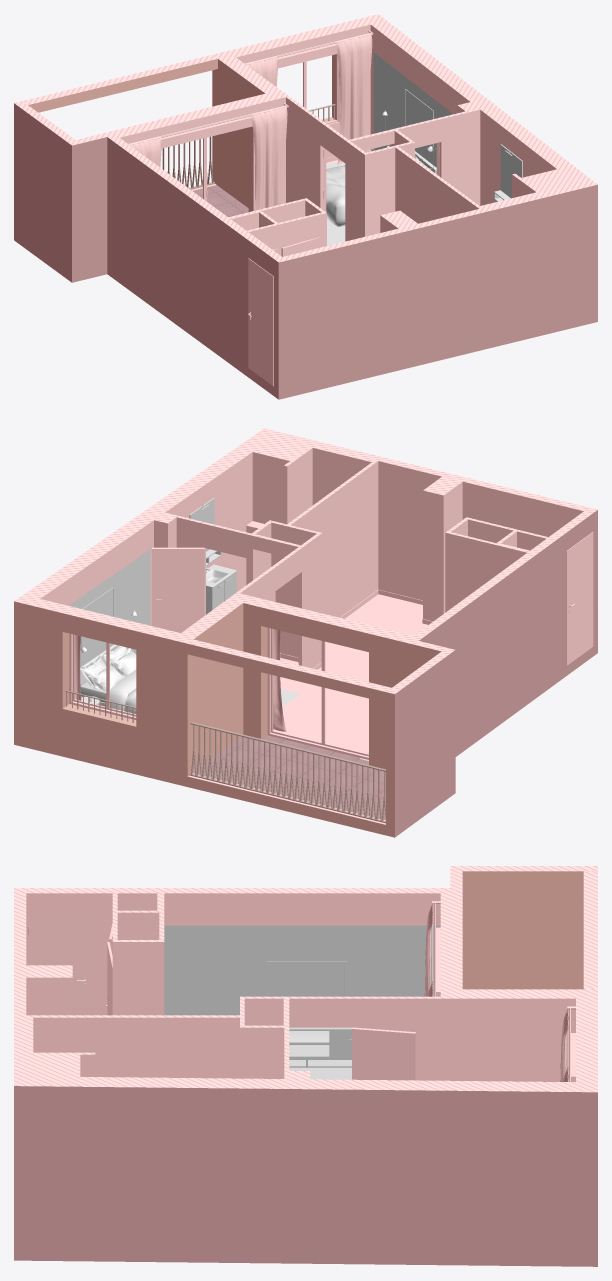
3 renders of one model, top to bottom at view 1: azimuth 30°, elevation 25°; view 2: azimuth 150°, elevation 25°; view 3: azimuth 270°, elevation 25°, orthographic. The views are drawn at different scales.
Parts seen in each view (by area): view 1: masonry_01, curtain_02, curtain_01, contemporary_parent_bed_shadow, door_01, french_window_doble_right_01, railing_ext_01, blanket, ground_terrace_01, base_bathfurniture_batigreen_londres800_provence, books; view 2: masonry_01, railing_ext_01, ground_terrace_01, ground_living_01, interior_door_panel_02, contemporary_parent_bed_shadow, door_01, ground_kitchen_01, french_window_doble_right_01, pillows, base_bathfurniture_batigreen_londres800_provence, panels_bathfurniture_batigreen_londres800_provence (+3 smaller); view 3: masonry_01, contemporary_living_tv_shadow, door_01, interior_door_panel_01, tv, base, french_window_doble_right_01, panels_03, curtain_01.
Part boxes in pixels (box(x1,y1,x2,y2)): masonry_01: box(14, 14, 597, 399); curtain_02: box(245, 33, 372, 164); curtain_01: box(129, 105, 287, 210); contemporary_parent_bed_shadow: box(326, 52, 452, 245); door_01: box(248, 258, 273, 386); french_window_doble_right_01: box(161, 43, 340, 210); railing_ext_01: box(162, 104, 335, 189); blanket: box(326, 165, 345, 226); ground_terrace_01: box(193, 185, 248, 217); base_bathfurniture_batigreen_londres800_provence: box(500, 144, 522, 198); books: box(405, 89, 433, 146); masonry_01: box(14, 428, 597, 837); railing_ext_01: box(65, 690, 385, 823); ground_terrace_01: box(193, 735, 385, 820); ground_living_01: box(273, 623, 427, 753); interior_door_panel_02: box(152, 547, 204, 632); contemporary_parent_bed_shadow: box(69, 549, 300, 706); door_01: box(566, 532, 593, 665); ground_kitchen_01: box(325, 594, 422, 673); french_window_doble_right_01: box(69, 627, 368, 759); pillows: box(81, 645, 136, 691); base_bathfurniture_batigreen_londres800_provence: box(189, 498, 237, 588); panels_bathfurniture_batigreen_londres800_provence: box(206, 549, 236, 614); masonry_01: box(14, 866, 597, 1266); contemporary_living_tv_shadow: box(164, 925, 440, 1079); door_01: box(26, 916, 90, 1015); interior_door_panel_01: box(352, 1027, 415, 1080); tv: box(267, 961, 346, 996); base: box(289, 1027, 352, 1067); french_window_doble_right_01: box(436, 927, 575, 1082); panels_03: box(329, 1031, 351, 1056); curtain_01: box(424, 903, 432, 996).
Size of what is drawn, in the model's own units: 7.5 by 2.7 by 8.19.
